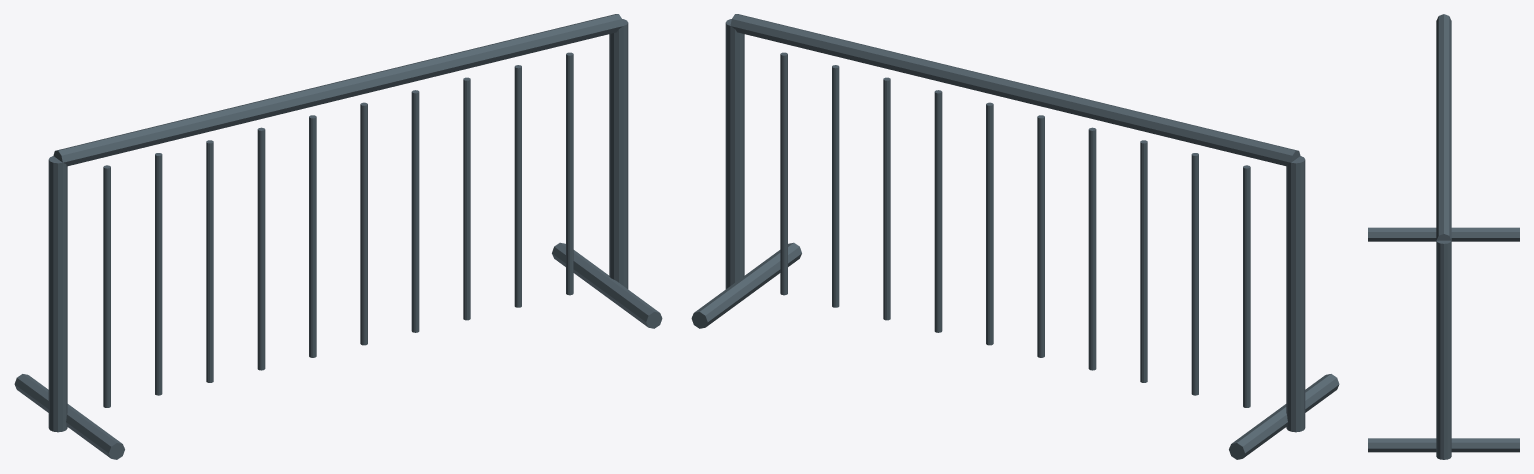
Rendered from spectator-barrier-407144f5.glb.
3 renders of one model, left to right at view 1: azimuth 30°, elevation 25°; view 2: azimuth 150°, elevation 25°; view 3: azimuth 270°, elevation 25°, orthographic. The views are drawn at different scales.
Visible parts, largest first — view 1: spectator-barrier; view 2: spectator-barrier; view 3: spectator-barrier.
Part boxes in pixels (x1=…): spectator-barrier: x1=14, y1=14, x2=662, y2=459; spectator-barrier: x1=691, y1=14, x2=1339, y2=459; spectator-barrier: x1=1368, y1=14, x2=1519, y2=459.
Bounding box in the file's own units: 2.47 × 1.14 × 0.6999.
